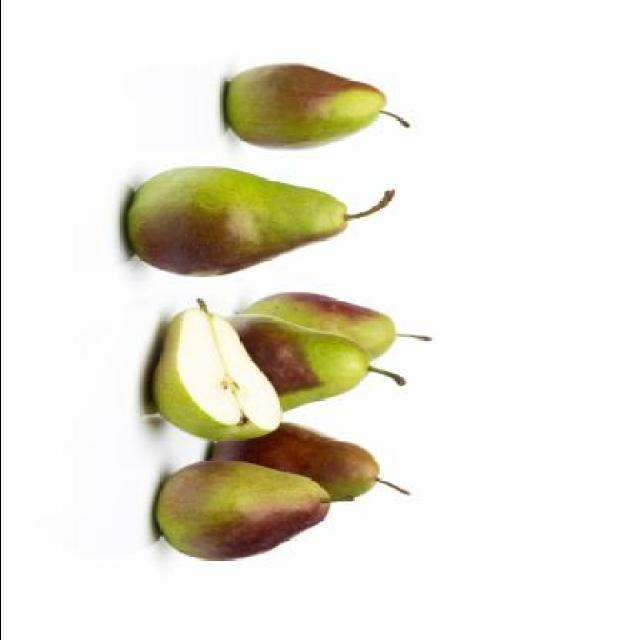Pear: (126, 164, 350, 278), (148, 456, 332, 560), (150, 307, 282, 443), (222, 312, 372, 414), (224, 66, 388, 152), (205, 422, 382, 500), (238, 290, 400, 364)
